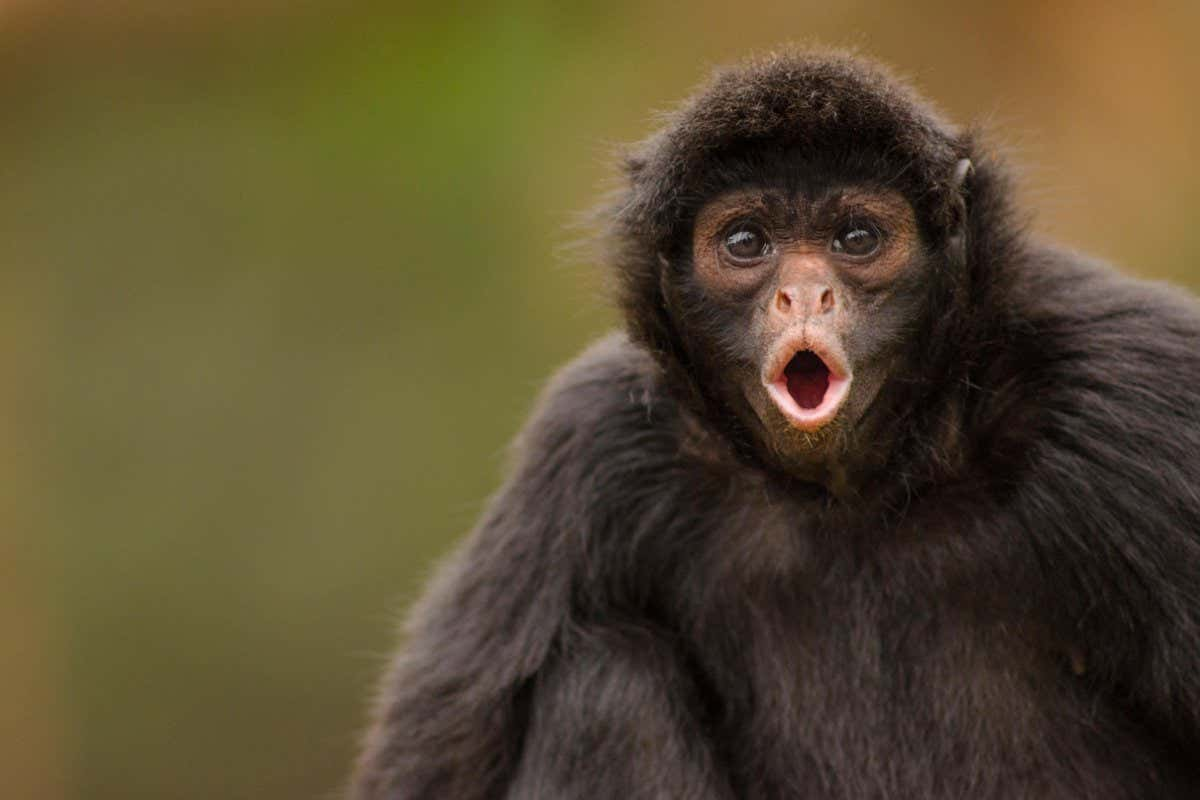monkey_body: (467, 339, 1200, 800)
monkey_face: (561, 76, 1036, 456)
